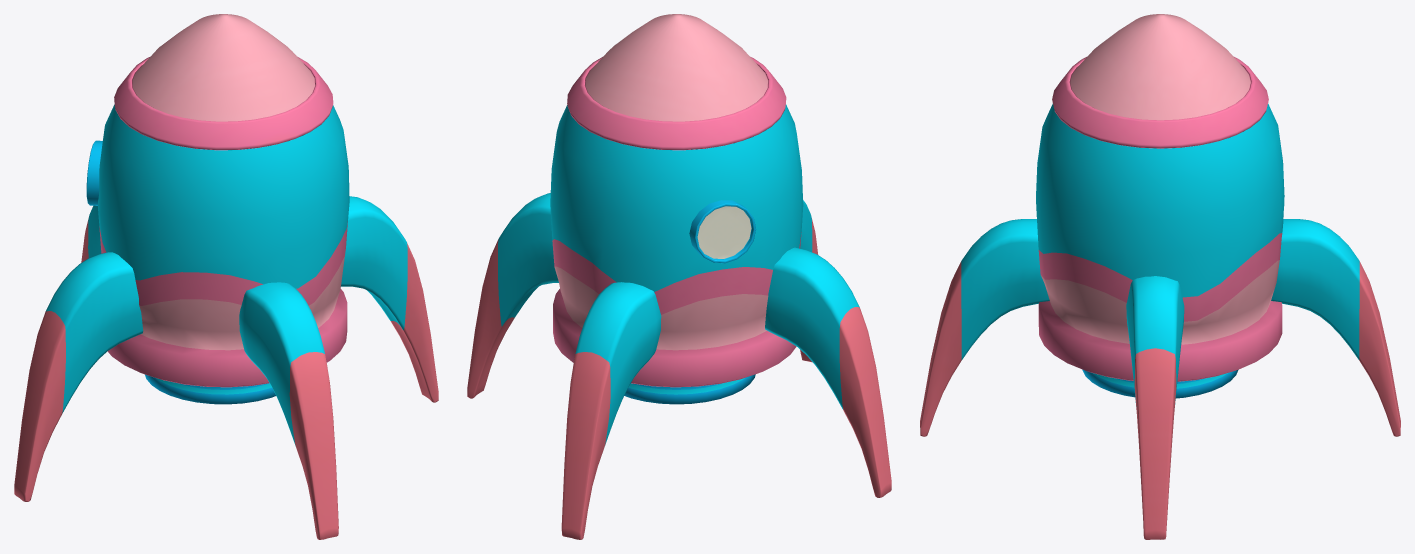
Rendered from Rocket.fbx.
3 renders of one model, left to right at view 1: azimuth 30°, elevation 25°; view 2: azimuth 150°, elevation 25°; view 3: azimuth 270°, elevation 25°, orthographic.
Visible parts, largest first — view 1: Cylinder.003; view 2: Cylinder.003; view 3: Cylinder.003.
Part boxes in pixels (x1=…): Cylinder.003: x1=14, y1=14, x2=438, y2=539; Cylinder.003: x1=467, y1=14, x2=891, y2=539; Cylinder.003: x1=920, y1=14, x2=1400, y2=539.
Bounding box in the file's own units: 419 × 417 × 427.
